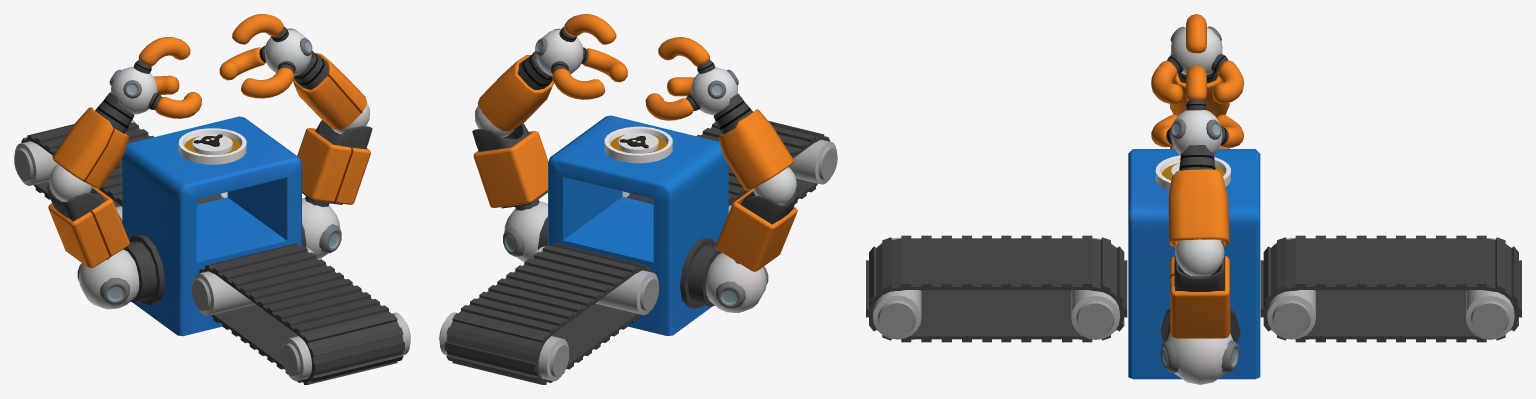
Rendered from maysxbalocuu.fbx.
3 renders of one model, left to right at view 1: azimuth 30°, elevation 25°; view 2: azimuth 150°, elevation 25°; view 3: azimuth 270°, elevation 25°, orthographic. The views are drawn at different scales.
Parts seen in each view (by area): view 1: base, polySurface434, canh_tay1 (×2), khuyu_tay (×2), canh_tay (×2), Bantay (×2), Ngontay2 (×2), Ngontay1 (×2), logo, polySurface432, De, polySurface435 (+4 smaller); view 2: base, polySurface432, canh_tay1 (×2), khuyu_tay (×2), canh_tay (×2), Bantay (×2), Ngontay2 (×2), Ngontay (×2), logo, polySurface434, De, polySurface398 (+4 smaller); view 3: polySurface434, polySurface432, base, khuyu_tay (×2), canh_tay1, Bantay (×2), canh_tay, polySurface435, polySurface433, polySurface398, polySurface403, Ngontay (×2) (+4 smaller).
Part boxes in pixels (bbox=[...]): base: bbox=[122, 116, 301, 336]; polySurface434: bbox=[199, 243, 404, 384]; canh_tay1 (×2): bbox=[47, 120, 372, 268]; khuyu_tay (×2): bbox=[52, 51, 367, 188]; canh_tay (×2): bbox=[77, 191, 342, 309]; Bantay (×2): bbox=[109, 28, 312, 114]; Ngontay2 (×2): bbox=[133, 14, 288, 73]; Ngontay1 (×2): bbox=[148, 61, 295, 118]; logo: bbox=[178, 128, 246, 164]; polySurface432: bbox=[21, 122, 223, 206]; De: bbox=[123, 234, 164, 304]; polySurface435: bbox=[192, 247, 317, 315]; base: bbox=[548, 115, 728, 335]; polySurface432: bbox=[445, 243, 651, 384]; canh_tay1 (×2): bbox=[472, 123, 798, 271]; khuyu_tay (×2): bbox=[477, 51, 793, 190]; canh_tay (×2): bbox=[501, 191, 768, 313]; Bantay (×2): bbox=[535, 28, 738, 114]; Ngontay2 (×2): bbox=[559, 14, 715, 73]; Ngontay (×2): bbox=[551, 61, 700, 120]; logo: bbox=[604, 126, 672, 163]; polySurface434: bbox=[626, 121, 830, 205]; De: bbox=[680, 238, 721, 308]; polySurface398: bbox=[532, 246, 658, 315]; polySurface434: bbox=[866, 235, 1127, 342]; polySurface432: bbox=[1260, 235, 1521, 342]; base: bbox=[1128, 149, 1260, 379]; khuyu_tay (×2): bbox=[1168, 72, 1229, 247]; canh_tay1: bbox=[1170, 255, 1230, 338]; Bantay (×2): bbox=[1170, 26, 1222, 155]; canh_tay: bbox=[1160, 333, 1239, 384]; polySurface435: bbox=[1071, 238, 1119, 339]; polySurface433: bbox=[873, 237, 921, 339]; polySurface398: bbox=[1267, 237, 1315, 339]; polySurface403: bbox=[1466, 238, 1514, 339]; Ngontay (×2): bbox=[1211, 54, 1244, 147].
Bounding box in the file's own units: 1056 × 873 × 1715.
